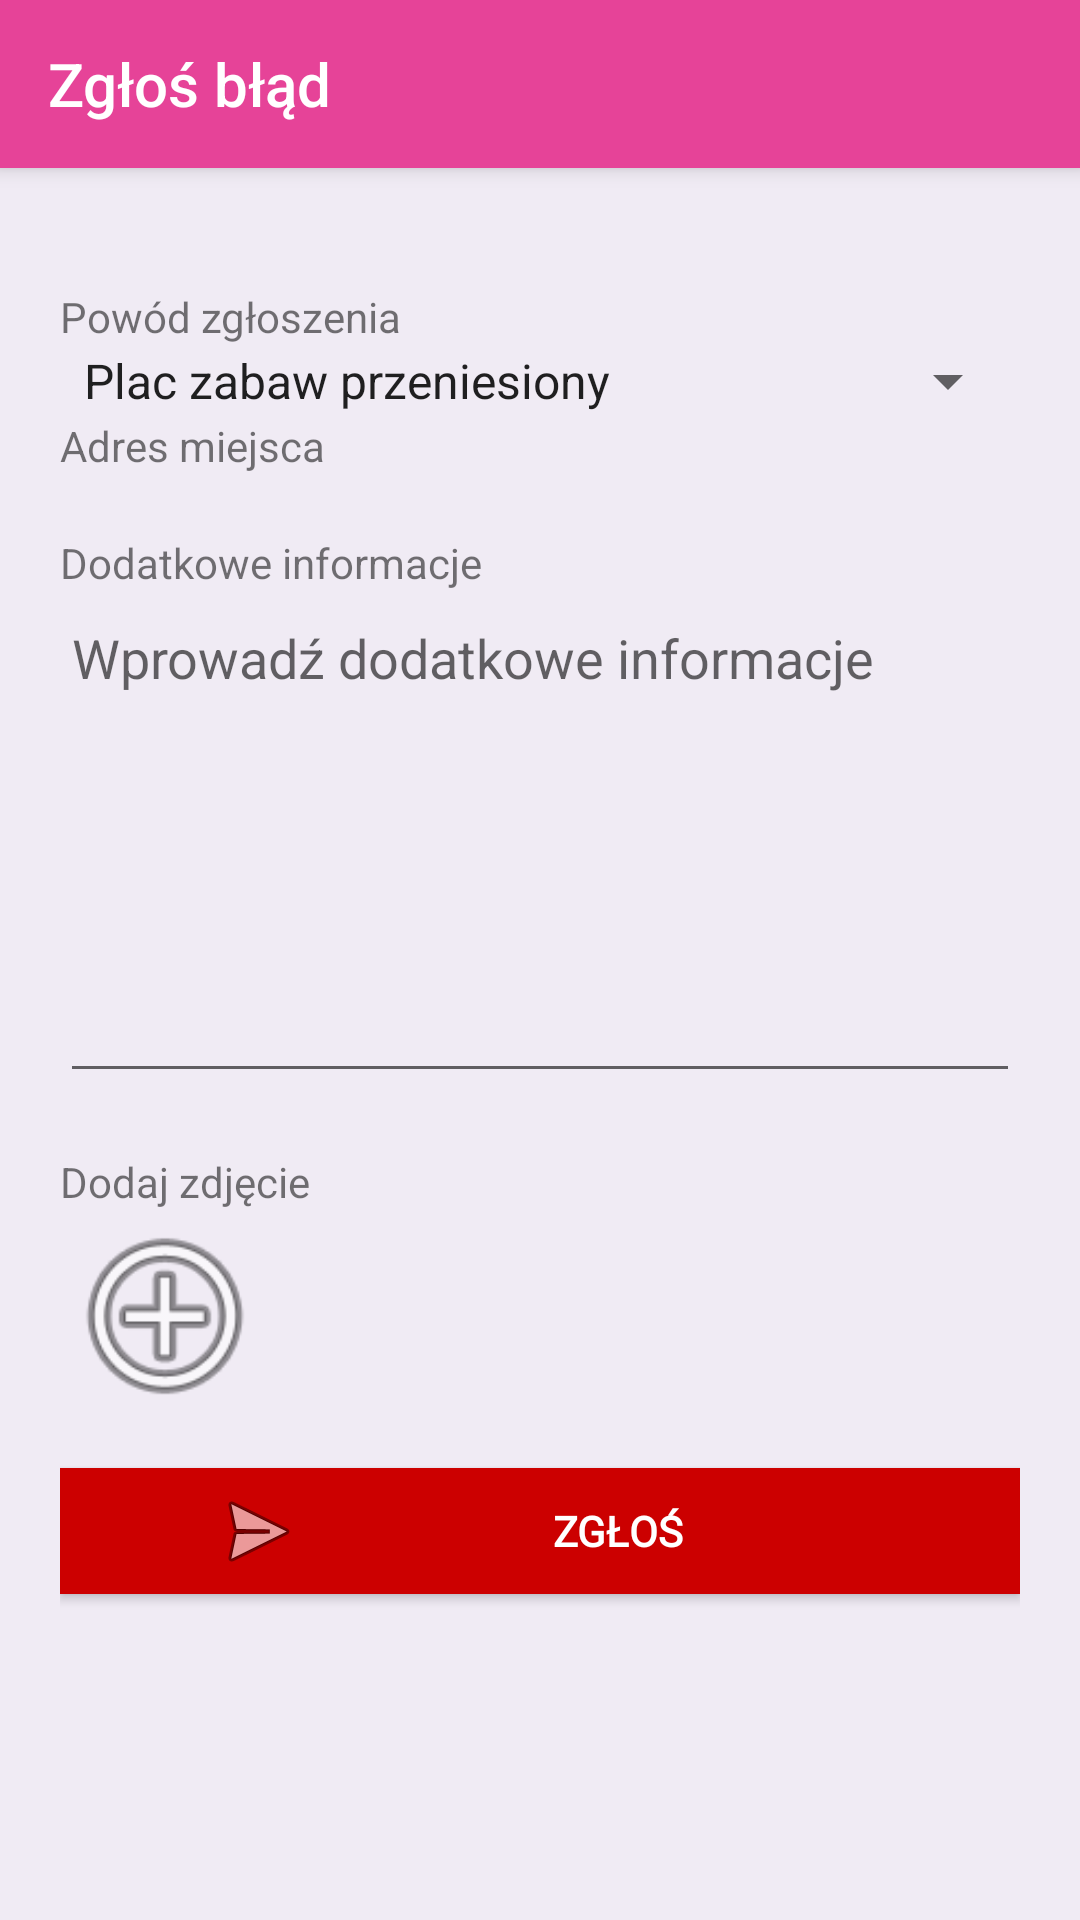

Icons on this 1080x1920 Android screen, each with the point to tap as [x,y]:
add: [165,1316]
